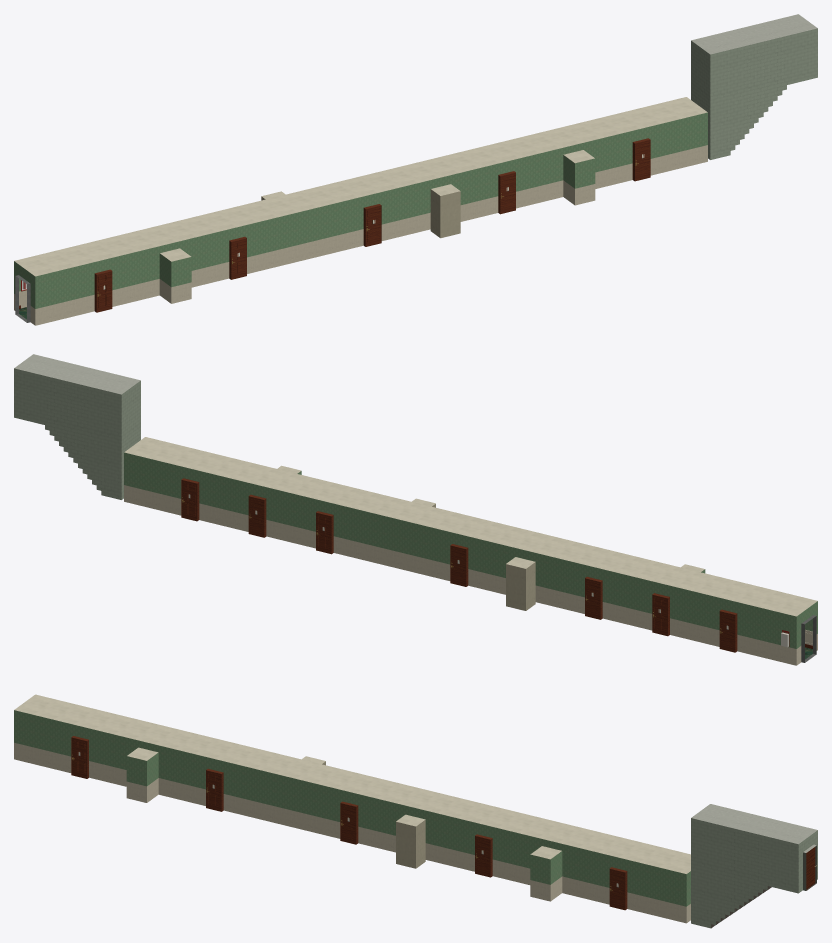
Rendered from floor_2_lower.glb.
3 renders of one model, top to bottom at view 1: azimuth 30°, elevation 25°; view 2: azimuth 150°, elevation 25°; view 3: azimuth 330°, elevation 25°, orthographic.
Visible parts, largest first — view 1: Wall_Green.001, Ceiling_Plaster.001, Wainscot.001, Stair_Paint.001, Stair_Ceiling.001, Closet_Paint.001, Door_Jamb.001, DoorLeaf_room_210, DoorLeaf_room_206, DoorLeaf_room_208, DoorLeaf_room_209, DoorLeaf_room_207; view 2: Wall_Green.001, Ceiling_Plaster.001, Stair_Paint.001, Wainscot.001, Stair_Ceiling.001, Closet_Paint.001, Door_Jamb.001, DoorLeaf_reception, DoorLeaf_room_201, DoorLeaf_room_203, DoorLeaf_room_205, DoorLeaf_room_204 (+2 smaller); view 3: Wall_Green.001, Ceiling_Plaster.001, Wainscot.001, Stair_Paint.001, Stair_Ceiling.001, Closet_Paint.001, Door_Jamb.001, DoorLeaf_room_206, DoorLeaf_room_210, DoorLeaf_room_208, DoorLeaf_room_209, DoorLeaf_room_207.
Part boxes in pixels (x1,y1,x2,y2): Wall_Green.001: [14, 112, 707, 308]; Ceiling_Plaster.001: [14, 97, 707, 276]; Wainscot.001: [14, 145, 707, 325]; Stair_Paint.001: [691, 28, 817, 159]; Stair_Ceiling.001: [691, 14, 817, 54]; Closet_Paint.001: [261, 189, 460, 238]; Door_Jamb.001: [94, 138, 649, 312]; DoorLeaf_room_210: [634, 139, 650, 181]; DoorLeaf_room_206: [96, 271, 112, 312]; DoorLeaf_room_208: [365, 205, 381, 246]; DoorLeaf_room_209: [500, 172, 515, 213]; DoorLeaf_room_207: [231, 238, 246, 279]; Wall_Green.001: [124, 452, 817, 648]; Ceiling_Plaster.001: [124, 437, 817, 616]; Stair_Paint.001: [14, 368, 140, 499]; Wainscot.001: [124, 485, 817, 665]; Stair_Ceiling.001: [14, 354, 140, 394]; Closet_Paint.001: [432, 504, 535, 610]; Door_Jamb.001: [181, 478, 737, 652]; DoorLeaf_reception: [248, 496, 264, 537]; DoorLeaf_room_201: [719, 611, 735, 652]; DoorLeaf_room_203: [450, 545, 466, 586]; DoorLeaf_room_205: [181, 480, 197, 521]; DoorLeaf_room_204: [316, 512, 331, 553]; Wall_Green.001: [14, 710, 690, 906]; Ceiling_Plaster.001: [14, 694, 690, 873]; Wainscot.001: [14, 742, 690, 923]; Stair_Paint.001: [691, 818, 817, 928]; Stair_Ceiling.001: [691, 804, 817, 852]; Closet_Paint.001: [322, 761, 425, 868]; Door_Jamb.001: [71, 736, 627, 909]; DoorLeaf_room_206: [71, 737, 87, 778]; DoorLeaf_room_210: [609, 868, 625, 909]; DoorLeaf_room_208: [340, 803, 356, 844]; DoorLeaf_room_209: [475, 836, 490, 877]; DoorLeaf_room_207: [206, 770, 221, 811].
Bounding box in the file's own units: 47 × 6 × 4.6.
Materials: 40 (28 with a texture image).
